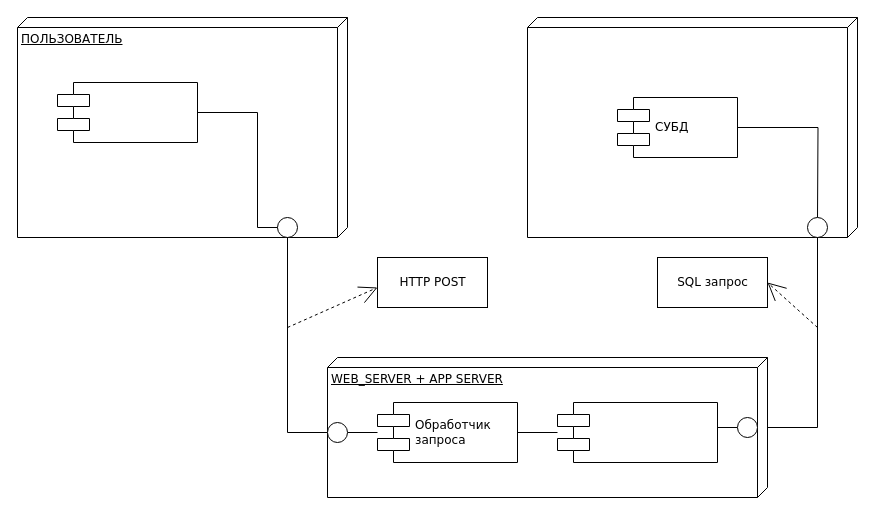
This 875x515 diagram has some shape labels left out. Each missing label, with the box of its shape:
БАЗА ДАННЫХ: (526, 16, 858, 238)
Интерфейс пользователя: (56, 82, 198, 142)
Обращение к БД: (556, 402, 718, 462)
